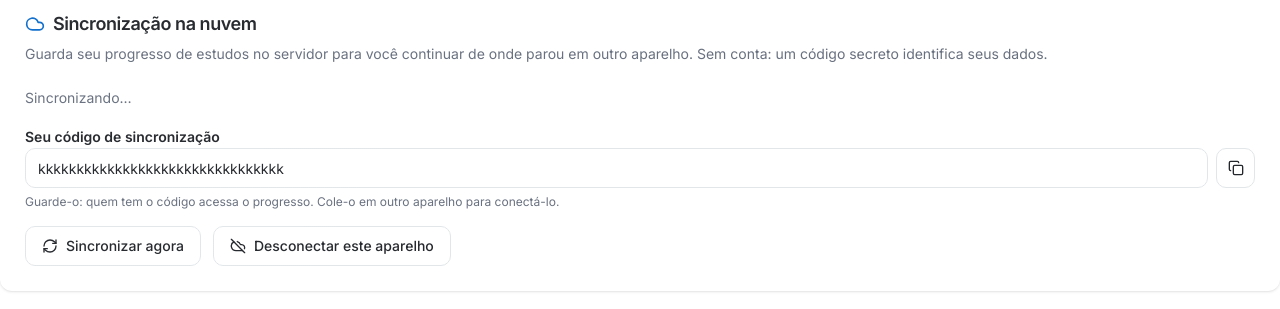
Test: CloudSyncCard › desconecta e apaga o código deste aparelho
Click the button "Desconectar este aparelho".
click(332, 246)  # box [213,226,451,266]
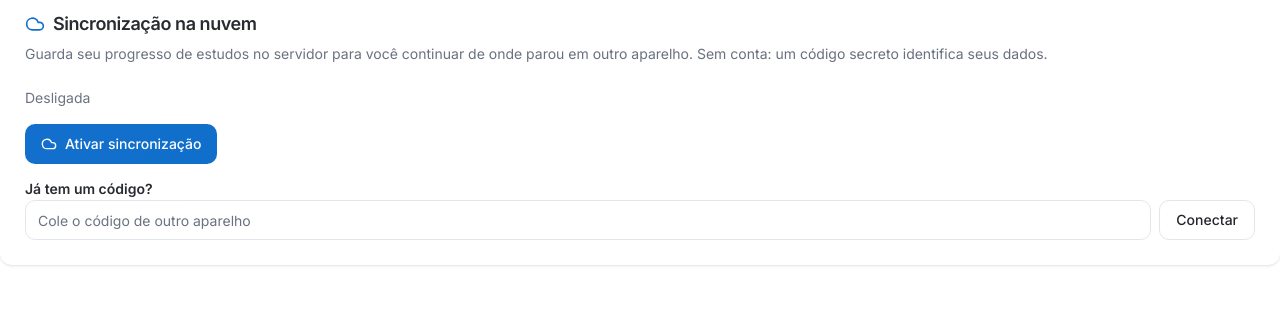
Expected: the message reads "Desligada", [25,89,90,106]
